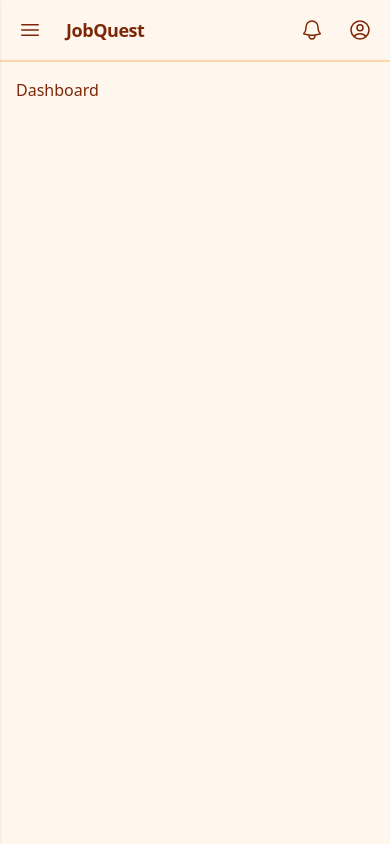
Test case: AppShell › closes the mobile navigation after a keyboard-activated selection
Click the button named "Open navigation menu" at (30, 30), box [8,8,52,52]
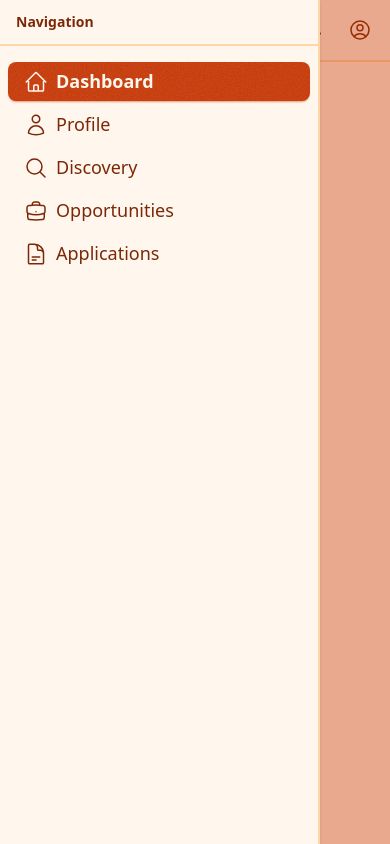
Click the link "Profile" at (67, 124), box [24,112,110,136]
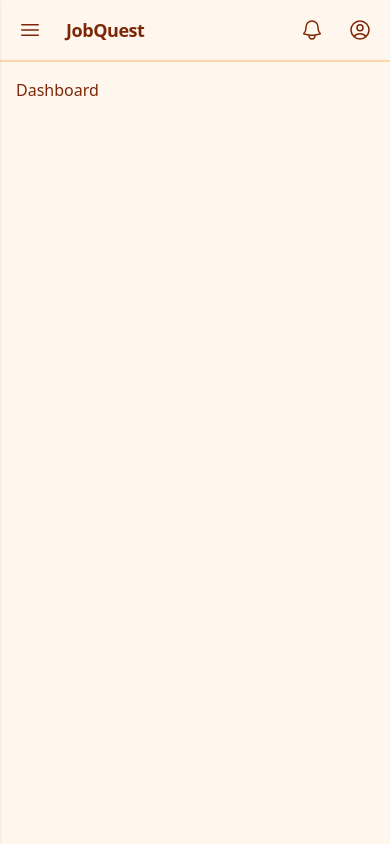
Expected: the button named "Open navigation menu" is collapsed, [8,8,52,52]
